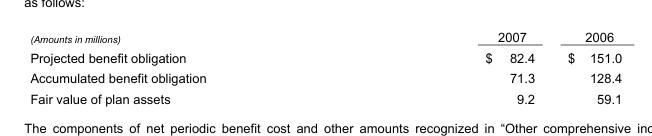table: (29, 29, 621, 105)
table column: (29, 29, 345, 105), (345, 29, 550, 105), (550, 29, 621, 105)
table column header: (29, 29, 621, 46)
table row: (29, 46, 621, 67), (29, 67, 621, 87), (29, 87, 621, 105), (29, 29, 621, 46)
